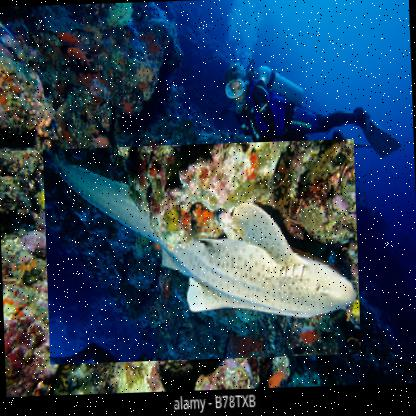zebra_shark: (43, 138, 362, 366)
